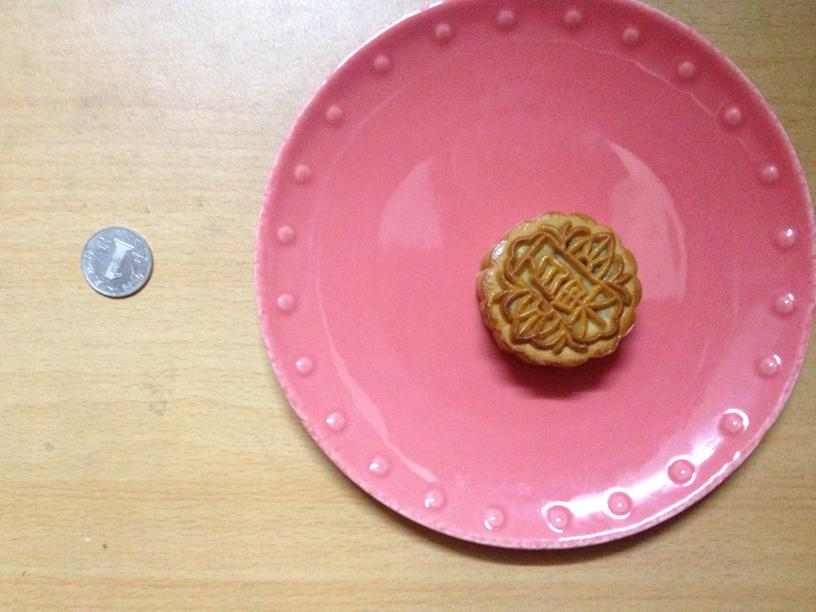coin: (81, 228, 153, 300)
mooncake: (477, 211, 643, 369)
